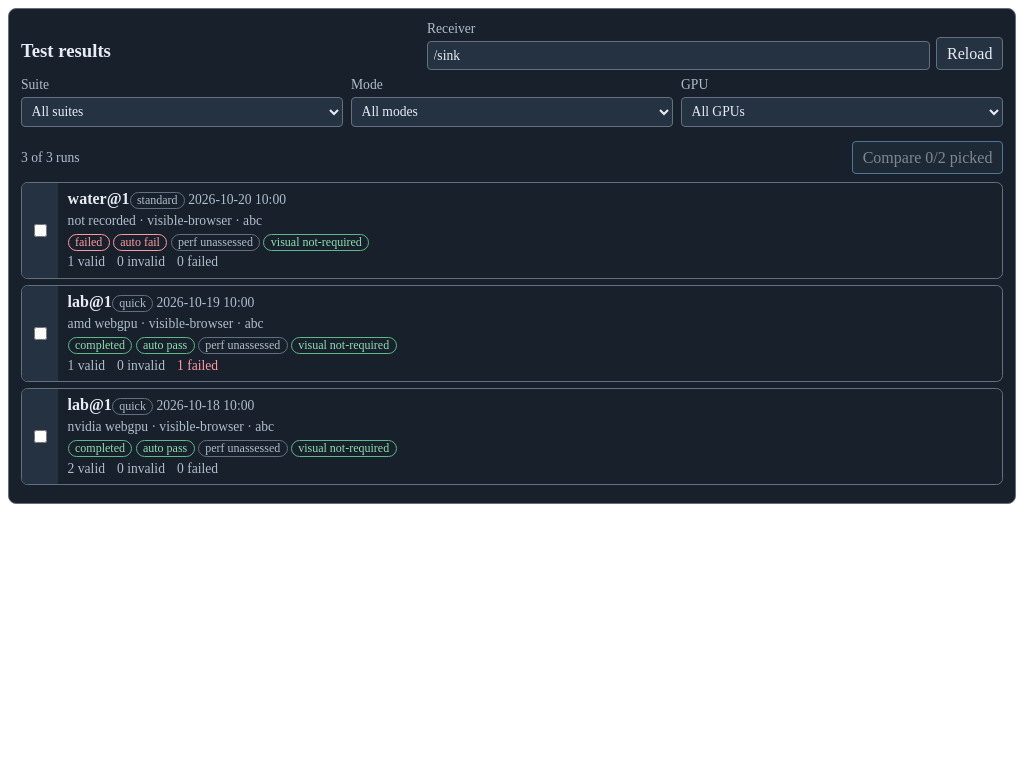
Scenario: TestResultsComponent › still shows the saved summary when the full result is missing
Click the 2nd button with class "run-open": [90, 302] box x1=58 y1=286 x2=1002 y2=381
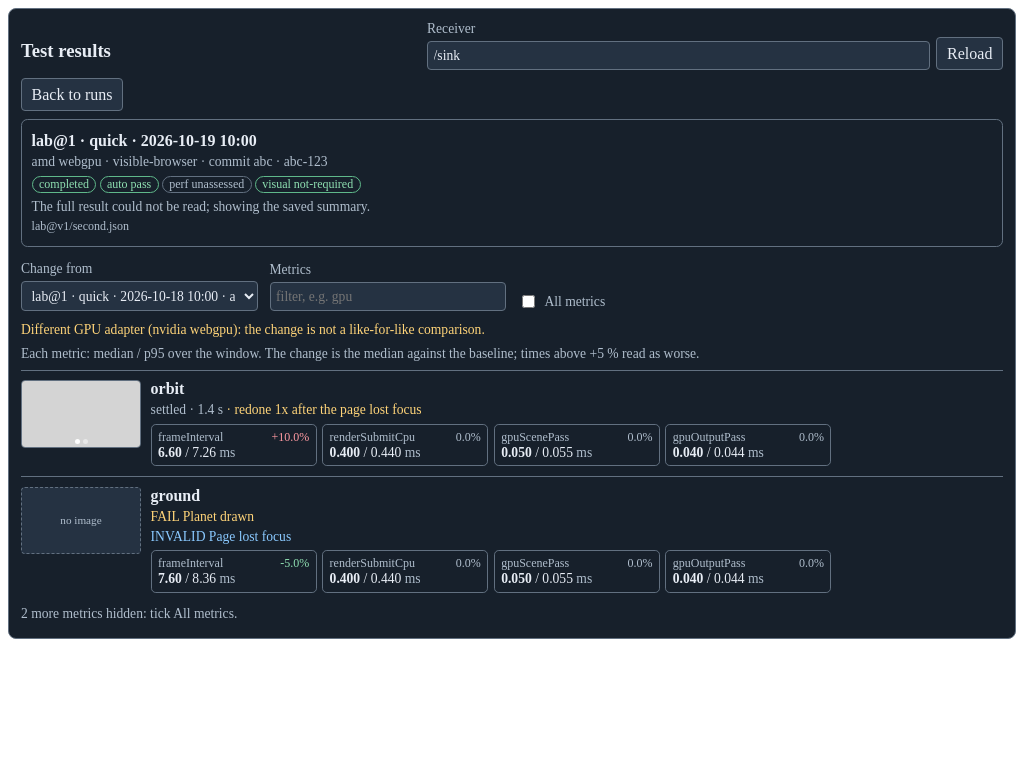
Expected: the text "full result could not be read" is shown, x1=32 y1=199 x2=370 y2=214
Expected: the number of list items with class "case" is 2, x1=21 y1=370 x2=1003 y2=476; x1=21 y1=476 x2=1003 y2=602
Expected: the list item with class "case" shows "orbit", x1=151 y1=380 x2=184 y2=397
